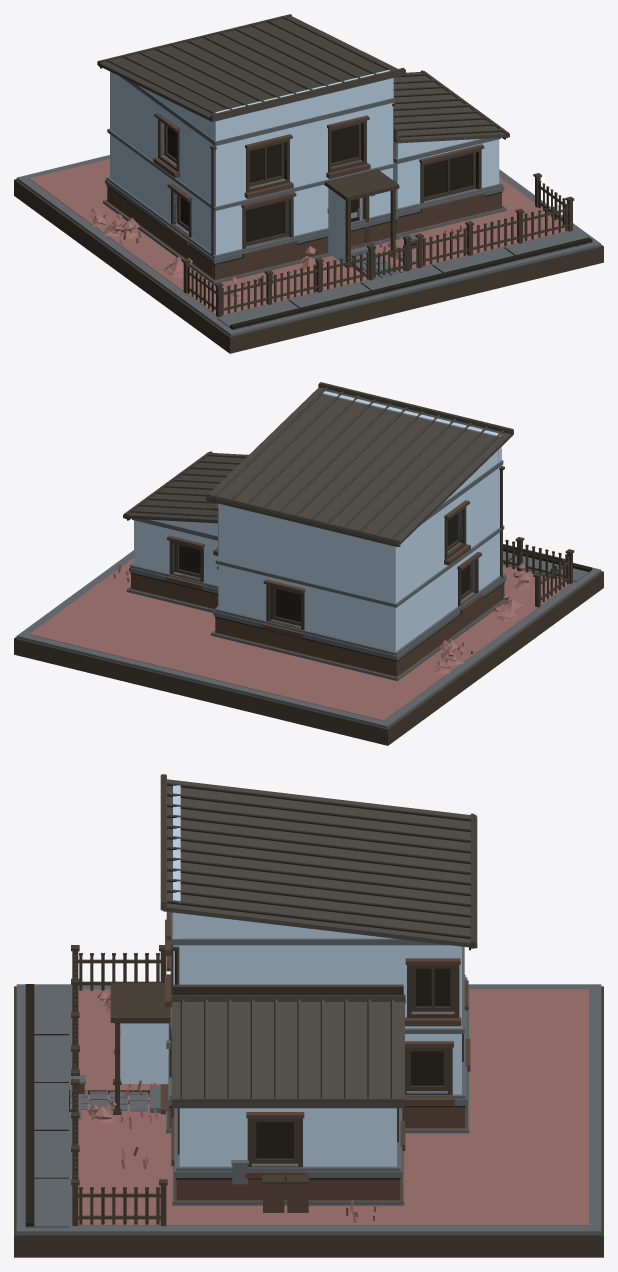
The model's file is house-modern-skillion.glb.
The picture shows the model from 3 angles, top to bottom: view 1: azimuth 30°, elevation 25°; view 2: azimuth 150°, elevation 25°; view 3: azimuth 270°, elevation 25°; orthographic projection. The views are drawn at different scales.
Visible parts, largest first — view 1: body-3, body-4, body-6, body-1, body-8, body-2, body-0; view 2: body-6, body-3, body-8, body-4, body-1, body-0, body-2; view 3: body-6, body-8, body-4, body-1, body-3, body-2, body-0.
Part boxes in pixels (x1,y1,x2,y2): body-3: (110, 70, 499, 262); body-4: (14, 14, 603, 353); body-6: (97, 16, 509, 143); body-1: (16, 76, 601, 336); body-8: (29, 159, 568, 315); body-2: (100, 66, 592, 329); body-0: (104, 113, 504, 280); body-6: (123, 384, 513, 546); body-3: (134, 391, 501, 651); body-8: (29, 558, 569, 720); body-4: (14, 382, 603, 745); body-1: (16, 460, 601, 728); body-0: (128, 500, 504, 677); body-2: (127, 388, 592, 661); body-6: (160, 775, 477, 1108); body-8: (78, 989, 588, 1225); body-4: (14, 774, 603, 1257); body-1: (16, 912, 601, 1234); body-3: (120, 785, 461, 1166); body-2: (25, 784, 470, 1227); body-0: (71, 912, 470, 1212).
Bounding box in the file's own units: 15 × 7.26 × 15.
